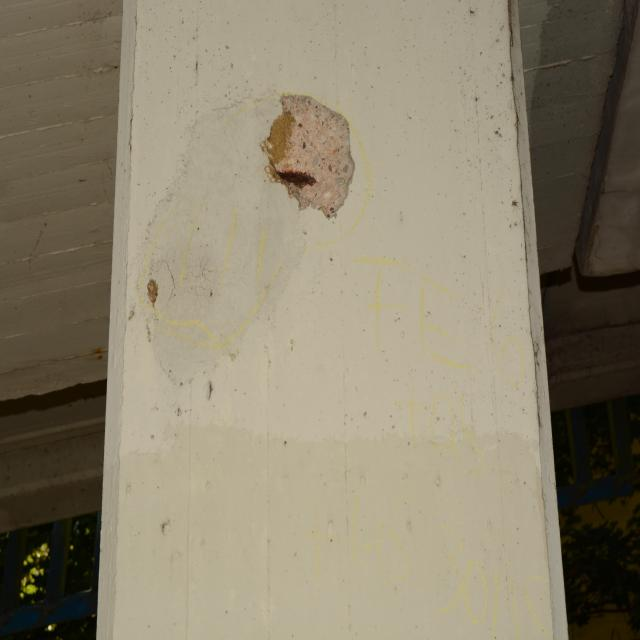Rebar: (258, 92, 356, 222)
